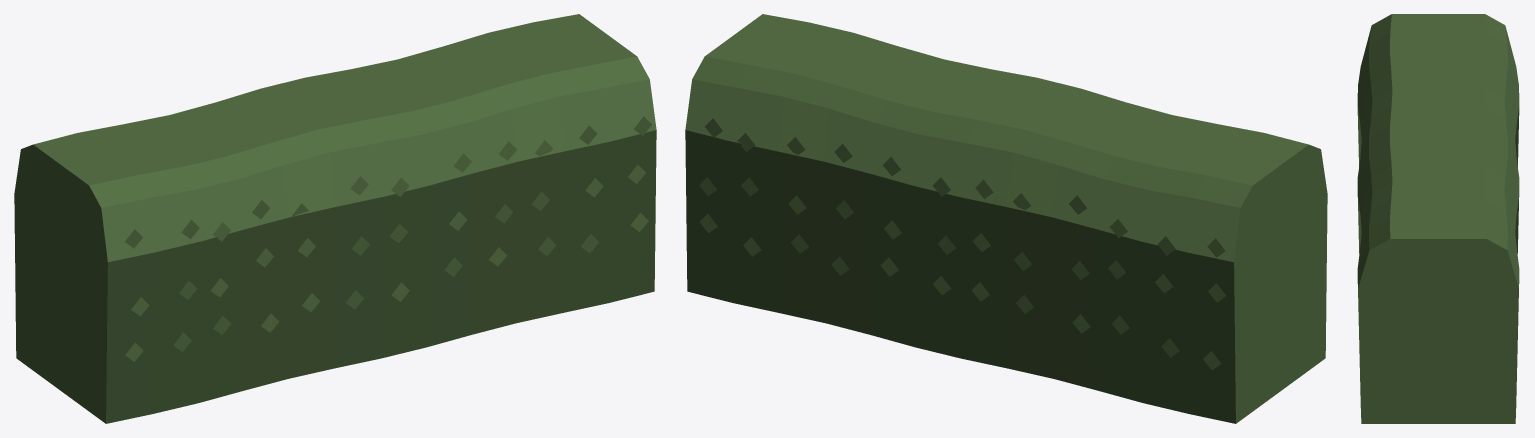
File: shrub_c.glb
3 views of the same model, side by side, from view 1: azimuth 30°, elevation 25°; view 2: azimuth 150°, elevation 25°; view 3: azimuth 270°, elevation 25° (orthographic). The views are drawn at different scales.
Parts seen in each view (by area): view 1: shrub_c; view 2: shrub_c; view 3: shrub_c.
Part boxes in pixels (x1=…): shrub_c: x1=14, y1=14, x2=656, y2=423; shrub_c: x1=685, y1=14, x2=1327, y2=423; shrub_c: x1=1357, y1=14, x2=1519, y2=423.
Bounding box in the file's own units: 2.2 × 0.8699 × 0.6908.
